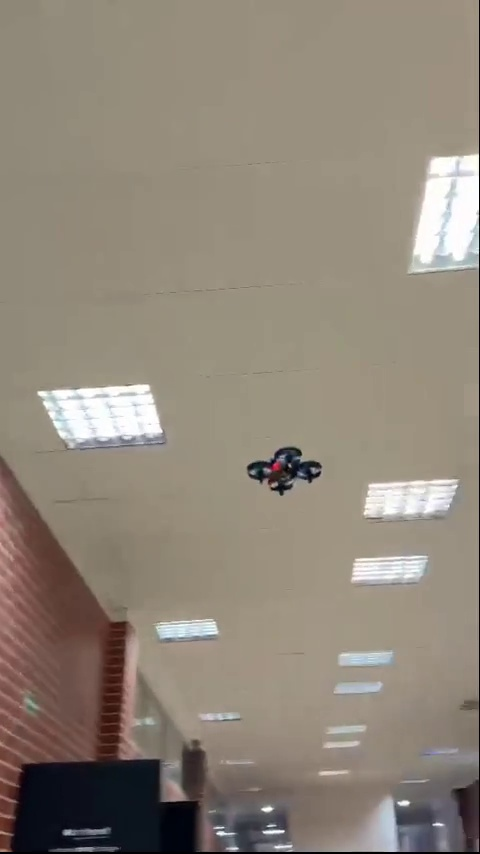drone: (248, 446, 322, 499)
